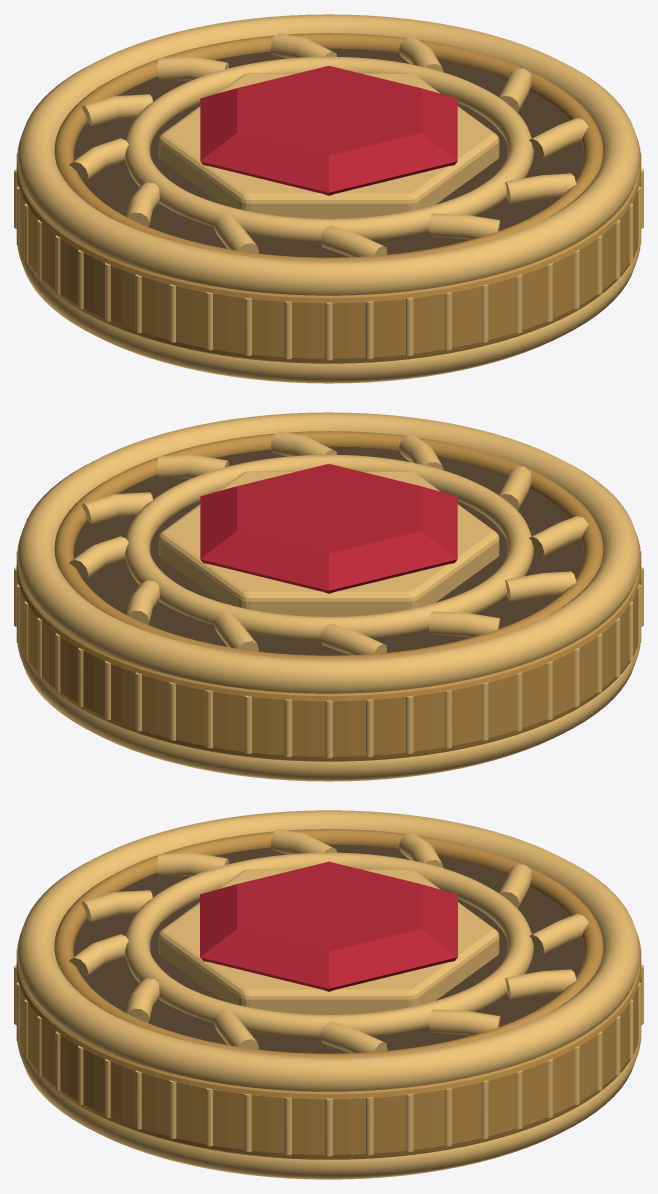
File: DecisionCoin.fbx
3 renders of one model, top to bottom at view 1: azimuth 30°, elevation 25°; view 2: azimuth 150°, elevation 25°; view 3: azimuth 270°, elevation 25°, orthographic.
Visible parts, largest first — view 1: DecisionCoin; view 2: DecisionCoin; view 3: DecisionCoin.
Part boxes in pixels (box(x1,y1,x2,y2)): DecisionCoin: box(14, 14, 643, 383); DecisionCoin: box(14, 412, 643, 781); DecisionCoin: box(14, 810, 643, 1179).
Size of the model in its own units: 101 by 31.2 by 101.
